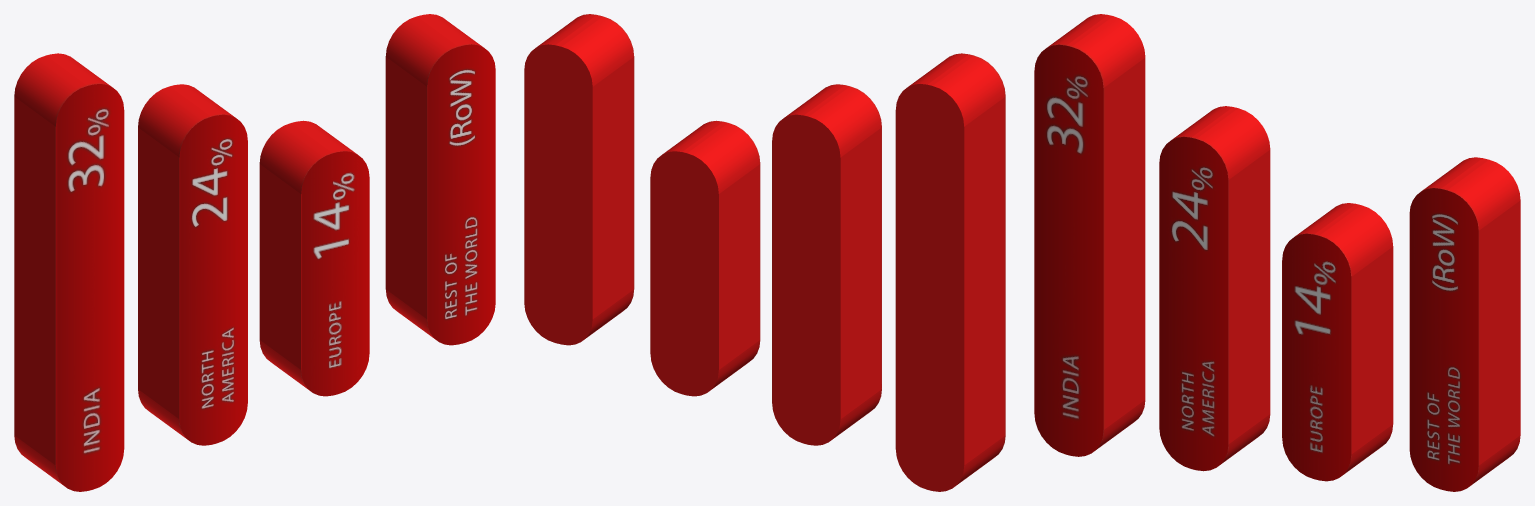
Rendered from grafico-barras-estaticas.gltf.
The picture shows the model from 3 angles, left to right: view 1: azimuth 30°, elevation 25°; view 2: azimuth 150°, elevation 25°; view 3: azimuth 330°, elevation 25°; orthographic projection.
Parts seen in each view (by area): view 1: Rectangle001, Rectangle002, Rectangle004, Rectangle003; view 2: Rectangle001, Rectangle002, Rectangle004, Rectangle003; view 3: Rectangle001, Rectangle002, Rectangle004, Rectangle003.
Boxes of the visible parts, <box> form: Rectangle001: <box>14,53,124,491</box>; Rectangle002: <box>138,84,247,445</box>; Rectangle004: <box>385,14,495,345</box>; Rectangle003: <box>259,120,369,396</box>; Rectangle001: <box>895,53,1005,491</box>; Rectangle002: <box>772,84,881,445</box>; Rectangle004: <box>524,14,634,345</box>; Rectangle003: <box>650,120,760,396</box>; Rectangle001: <box>1034,14,1145,456</box>; Rectangle002: <box>1159,106,1270,471</box>; Rectangle004: <box>1409,157,1520,491</box>; Rectangle003: <box>1282,203,1393,481</box>.
Size of the model in its own units: 0.104 by 0.0915 by 0.017.
Materials: 4 (4 with a texture image).
